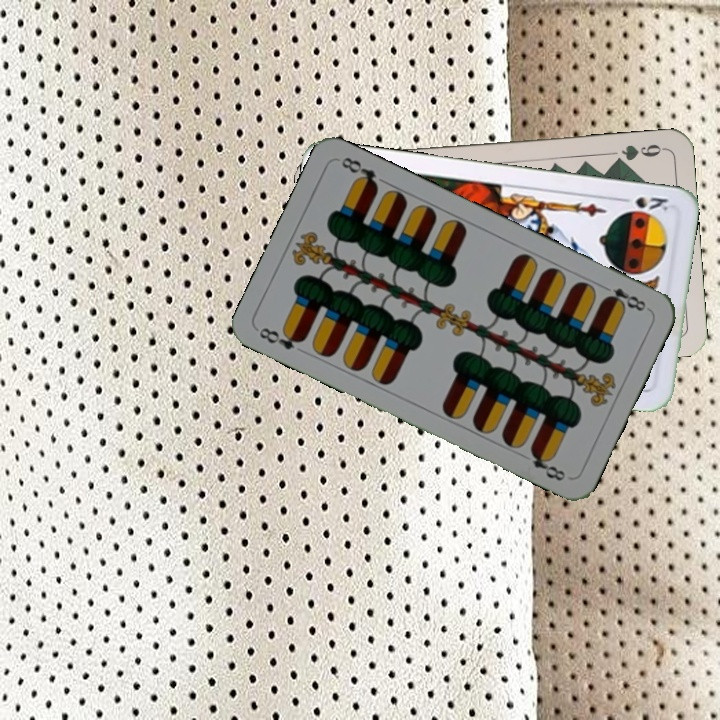E8: (596, 280, 652, 315), (255, 323, 307, 353)
G9: (609, 140, 667, 167)
SK: (614, 192, 671, 214)
